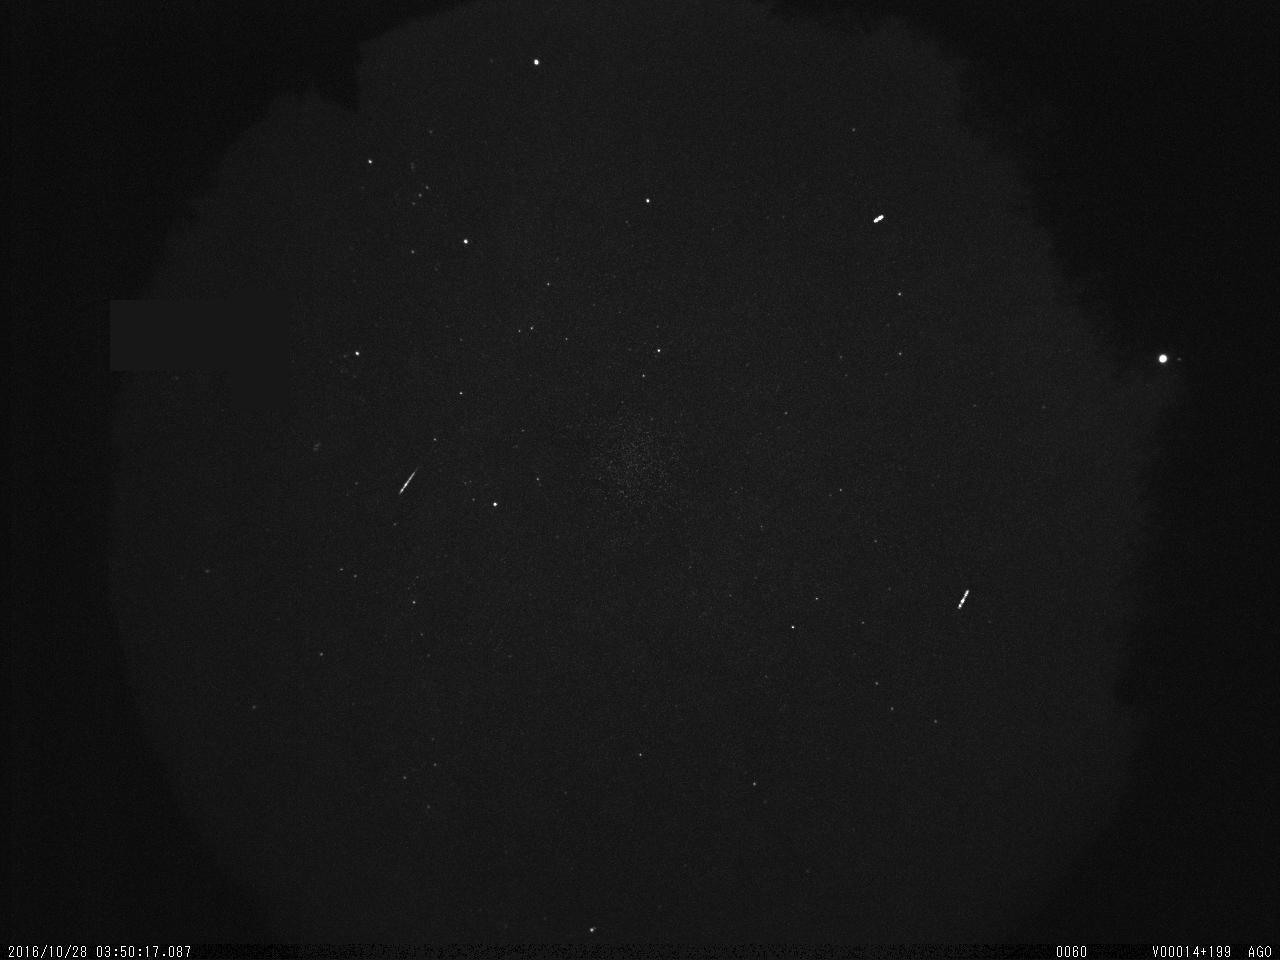Meteor: (396, 465, 419, 495), (955, 587, 970, 609)
